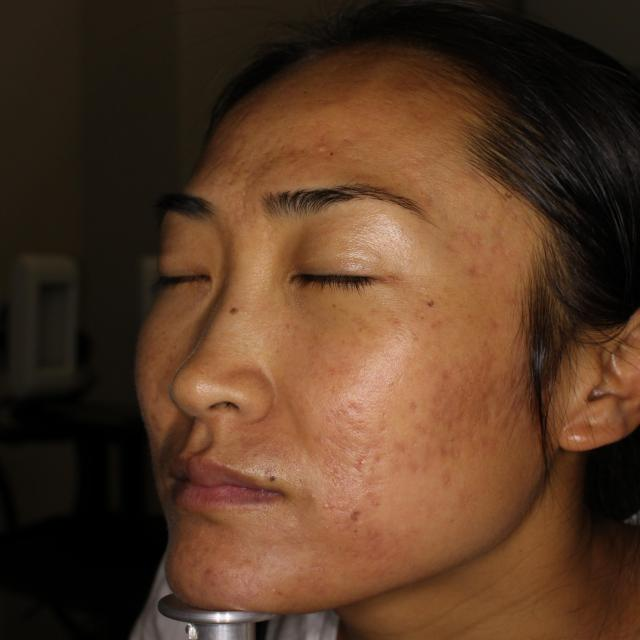pustule: (348, 452, 378, 472), (462, 261, 489, 282), (432, 441, 456, 461), (404, 394, 427, 414), (440, 367, 461, 388), (311, 139, 334, 154)
